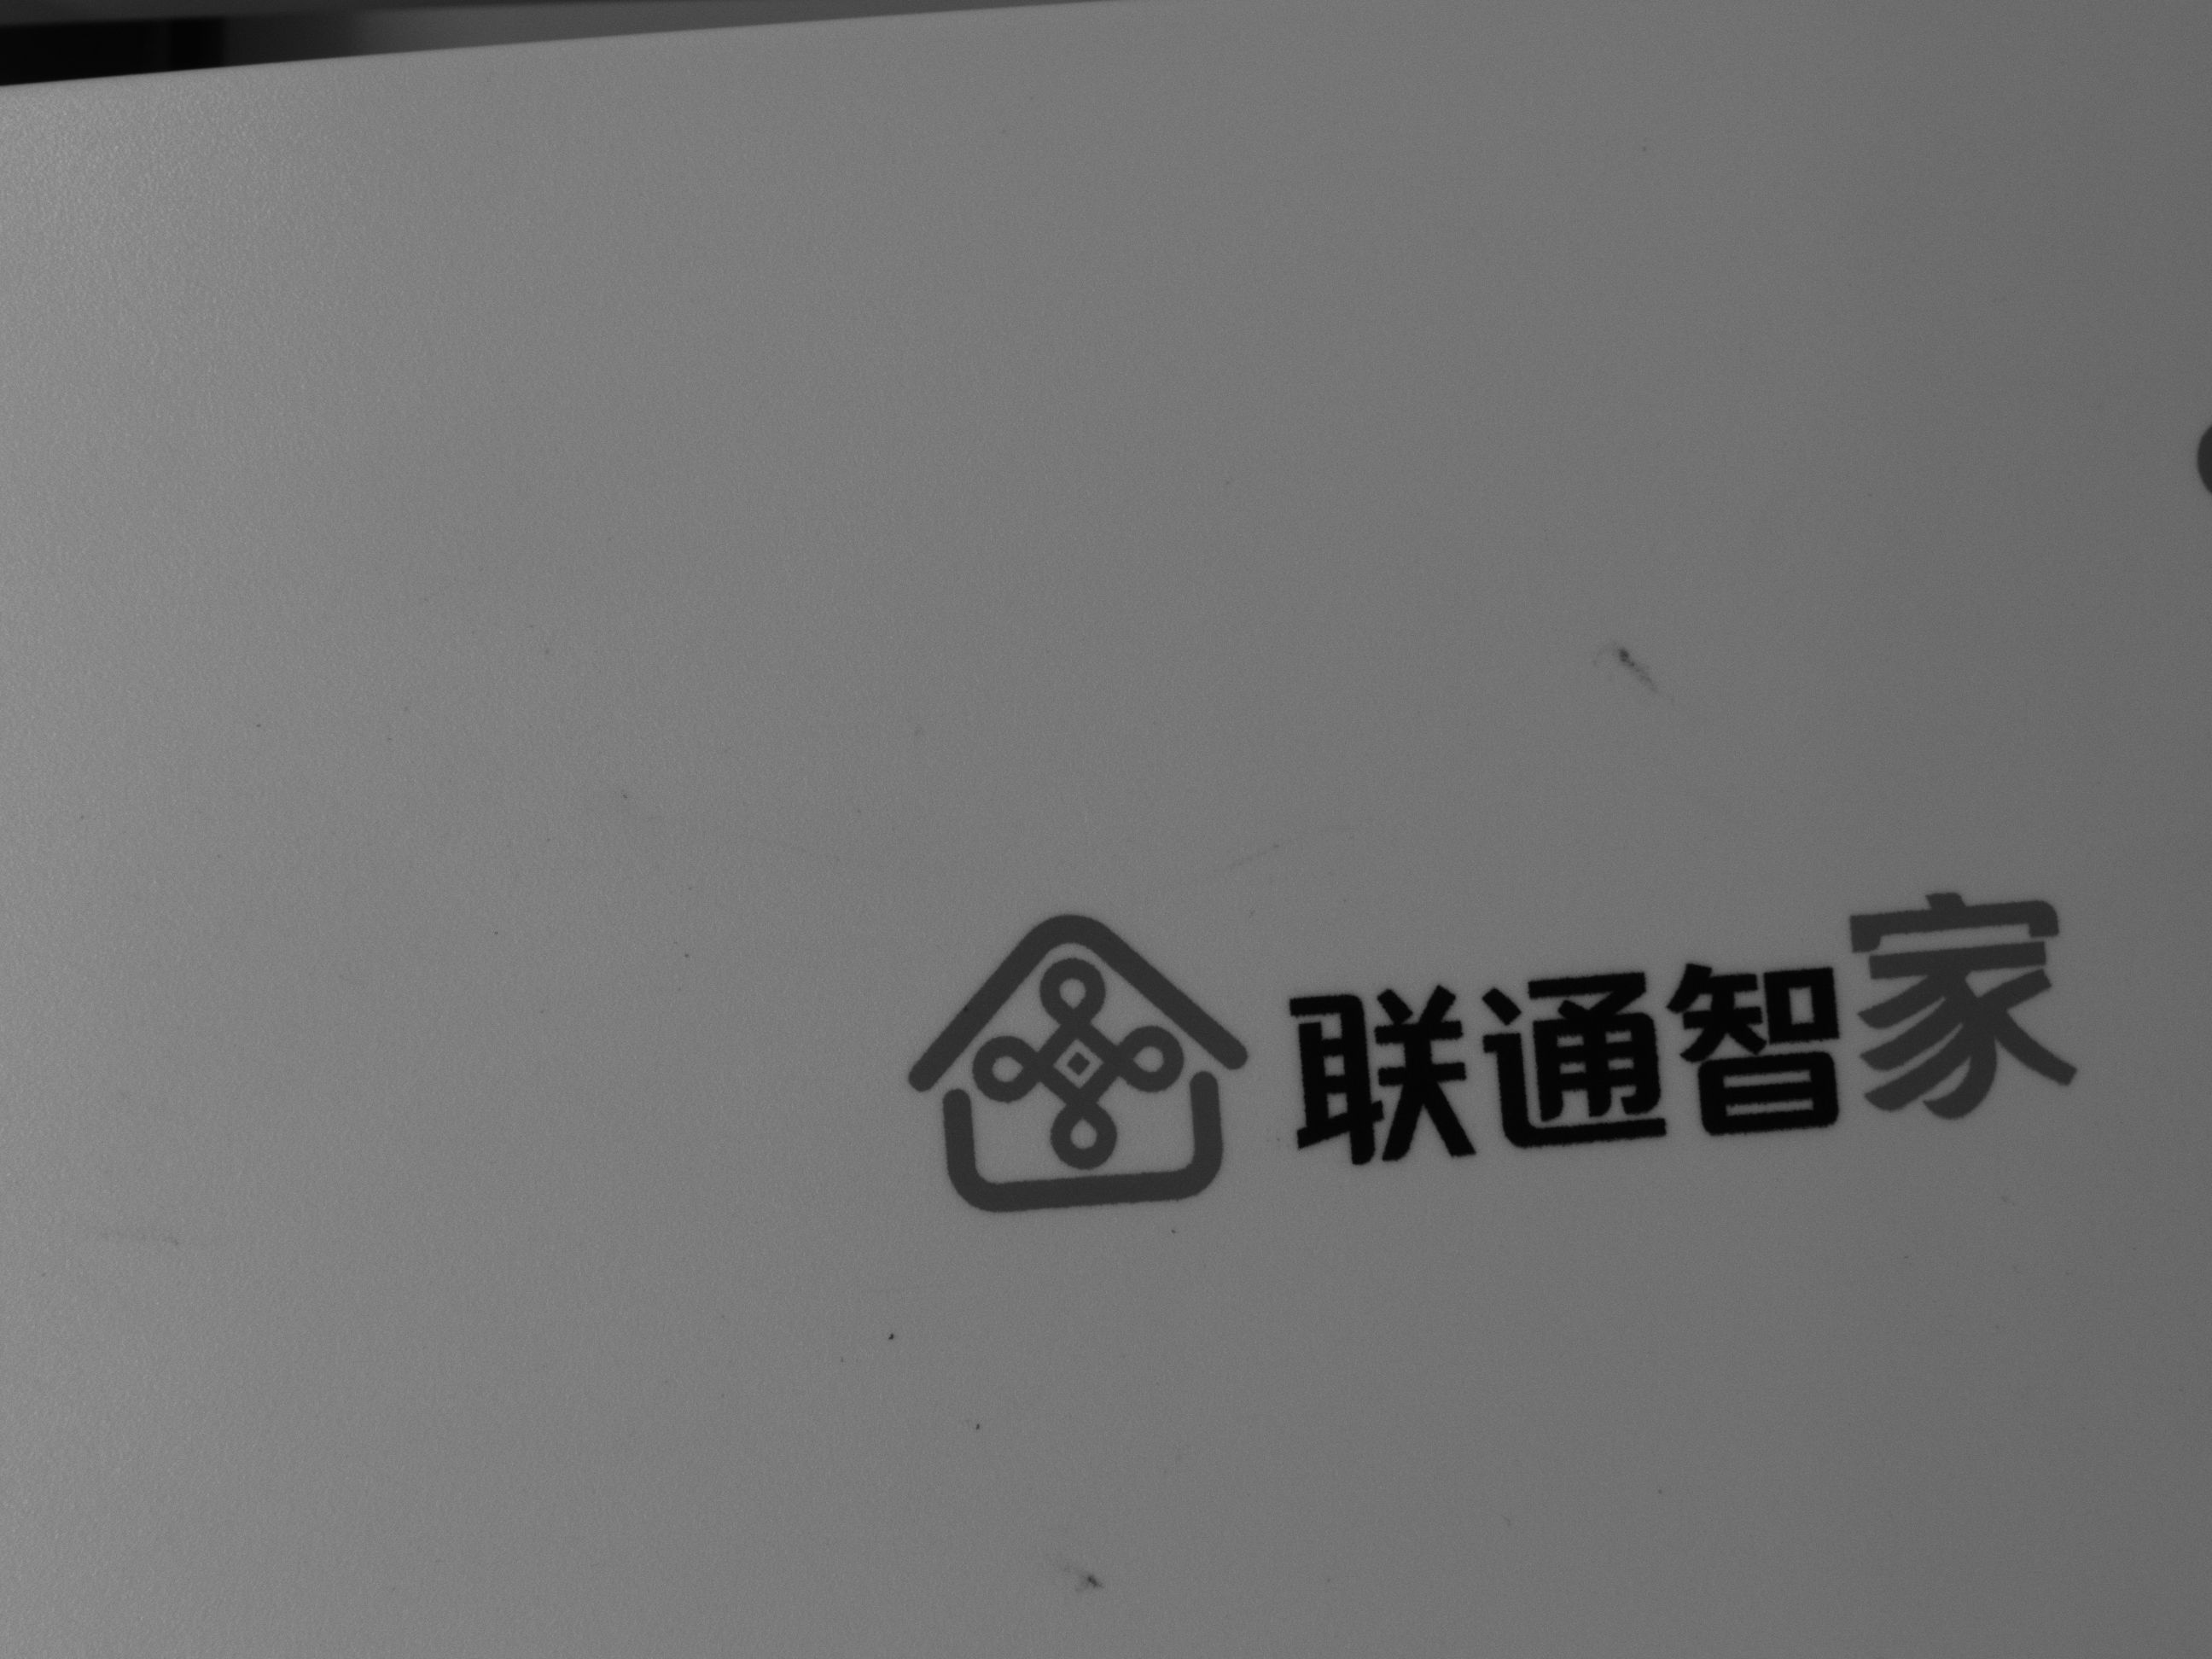BY_F6610Unicome: (853, 859, 2114, 1220)
